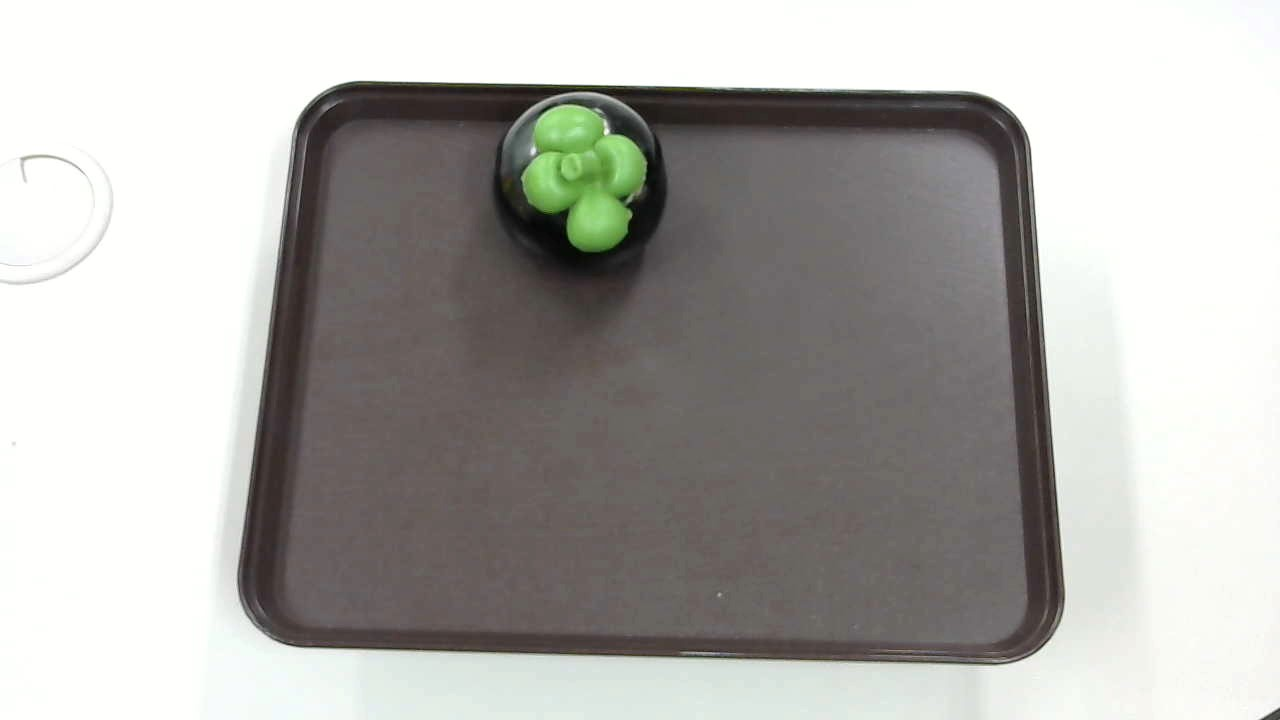mangosteen: (476, 86, 690, 269)
